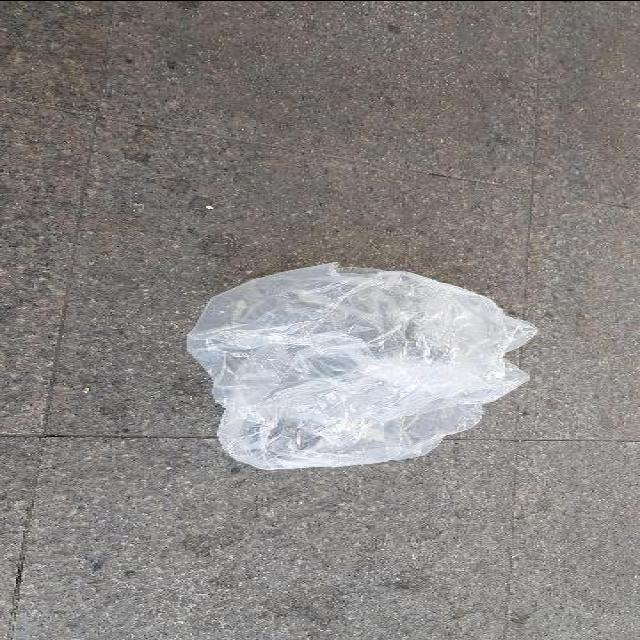plastic bag: (188, 263, 544, 469)
